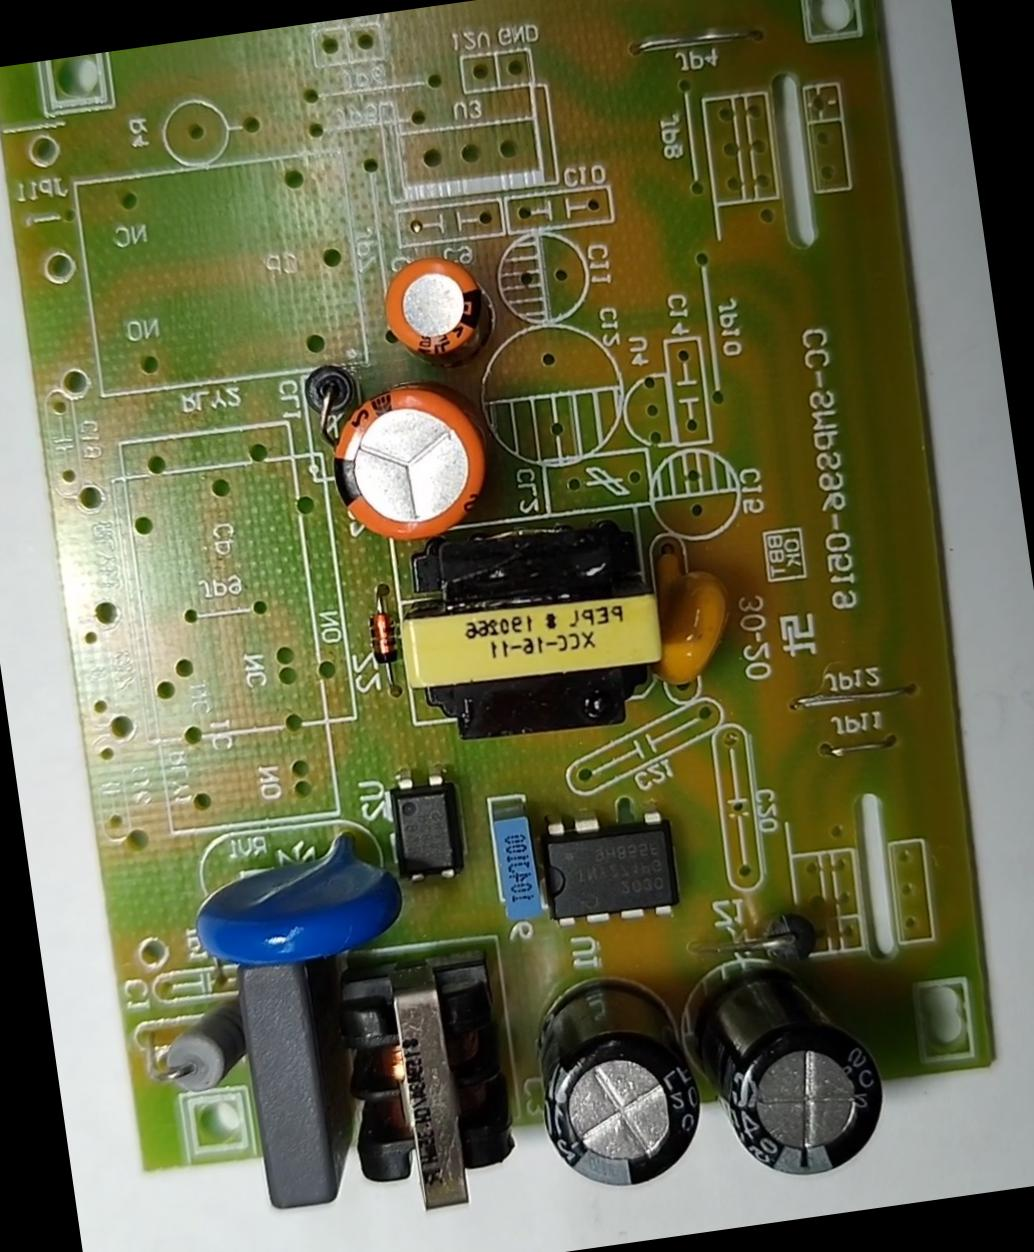Cap1: (319, 372, 494, 551)
Cap2: (374, 246, 488, 365)
Cap3: (529, 962, 707, 1197)
Cap4: (693, 948, 895, 1193)
MOSFET: (535, 806, 688, 934)
Mov: (184, 821, 408, 981)
Resistor: (156, 991, 253, 1100)
Transformer: (391, 499, 681, 758), (320, 938, 524, 1225)
